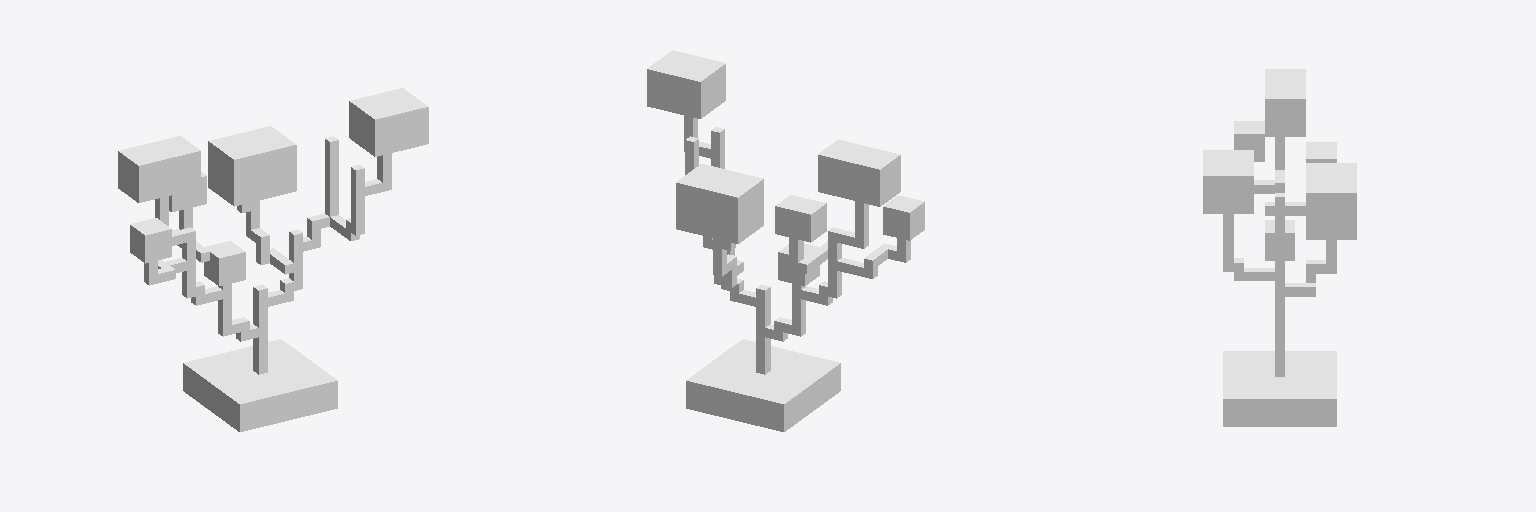
Rendered from tree.obj.
3 renders of one model, left to right at view 1: azimuth 30°, elevation 25°; view 2: azimuth 150°, elevation 25°; view 3: azimuth 270°, elevation 25°, orthographic.
Parts seen in each view (by area): view 1: default; view 2: default; view 3: default.
Boxes of the visible parts, box(x1,y1,x2,y2) form: default: box(118, 88, 428, 431); default: box(647, 50, 924, 431); default: box(1203, 69, 1356, 426).
Size of the model in its own units: 30 by 31 by 15.